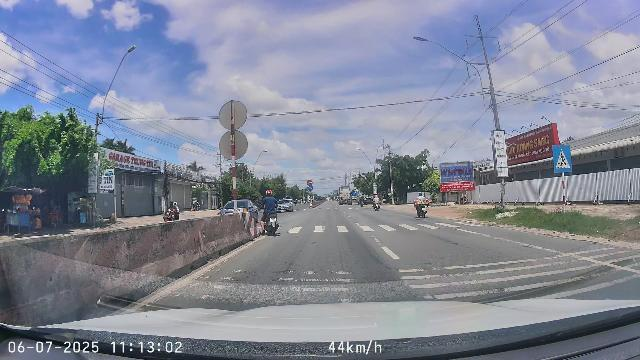423a-duong-nguoi-di-bo-sang-ngang-1: (553, 145, 572, 172)
